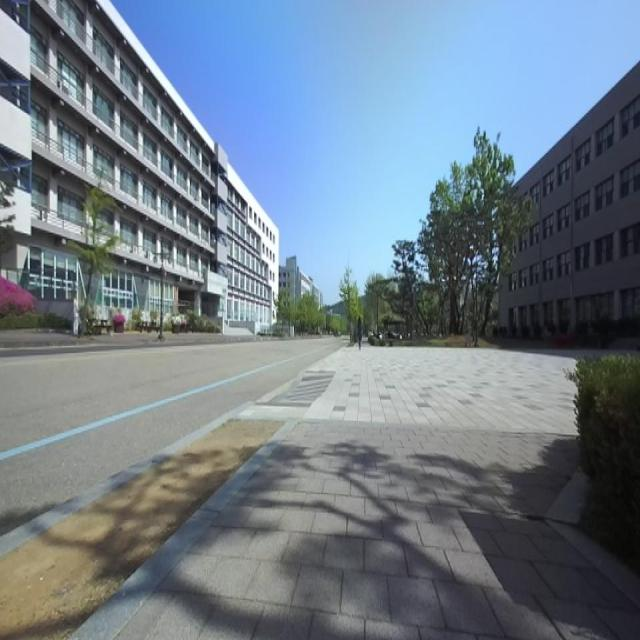sidewalk: (121, 344, 640, 639), (71, 420, 297, 640)
